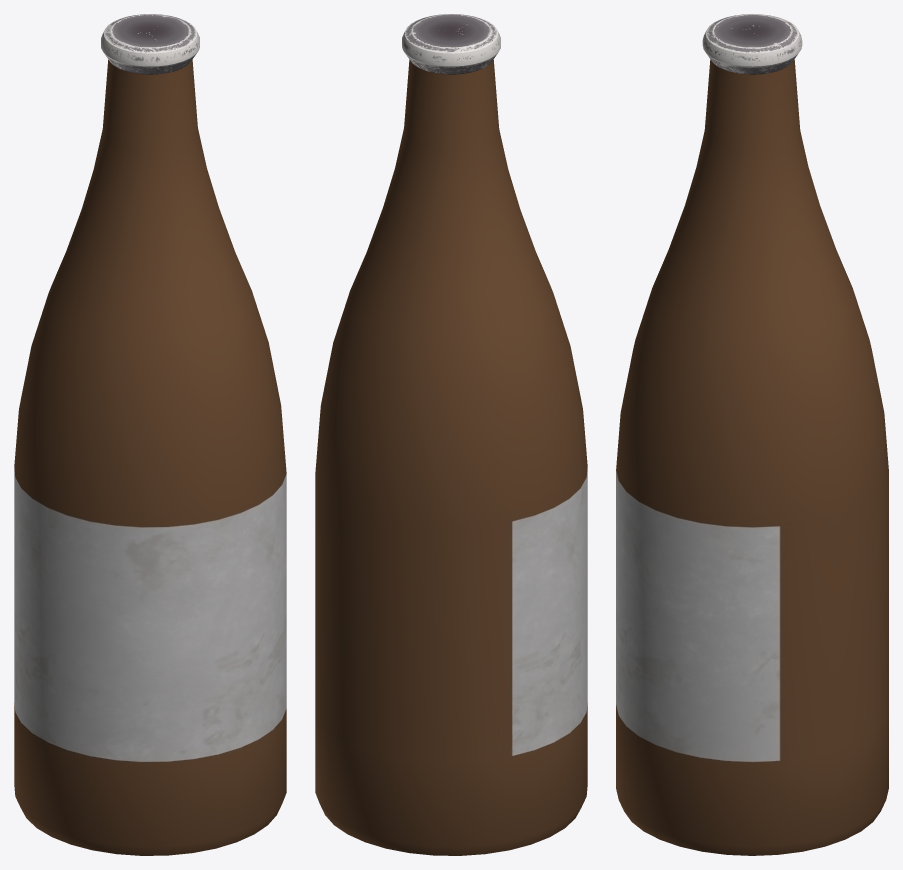
The model's file is bottle-02.fbx.
The picture shows the model from 3 angles, left to right: view 1: azimuth 30°, elevation 25°; view 2: azimuth 150°, elevation 25°; view 3: azimuth 270°, elevation 25°; orthographic projection.
Parts seen in each view (by area): view 1: bottle_02_bottles_0; view 2: bottle_02_bottles_0; view 3: bottle_02_bottles_0.
Boxes of the visible parts, box(x1,y1,x2,y2) form: bottle_02_bottles_0: box(14, 14, 286, 855); bottle_02_bottles_0: box(315, 14, 587, 855); bottle_02_bottles_0: box(616, 14, 888, 855).
Bounding box in the file's own units: 2.36 × 7.39 × 2.36.
